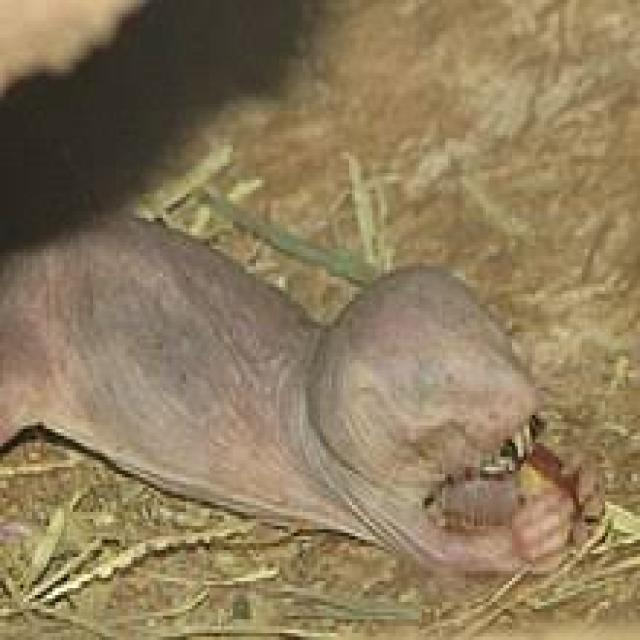rat: (0, 0, 605, 578)
